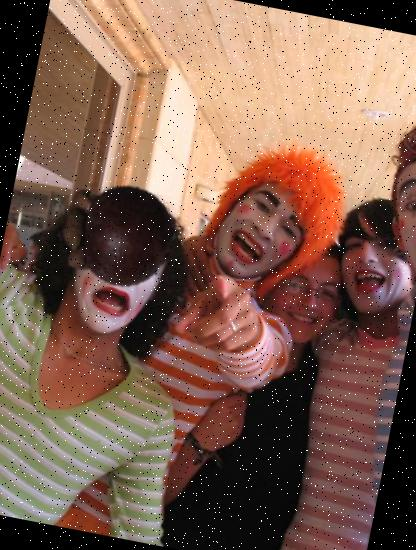Mangostan: (49, 166, 183, 300)
